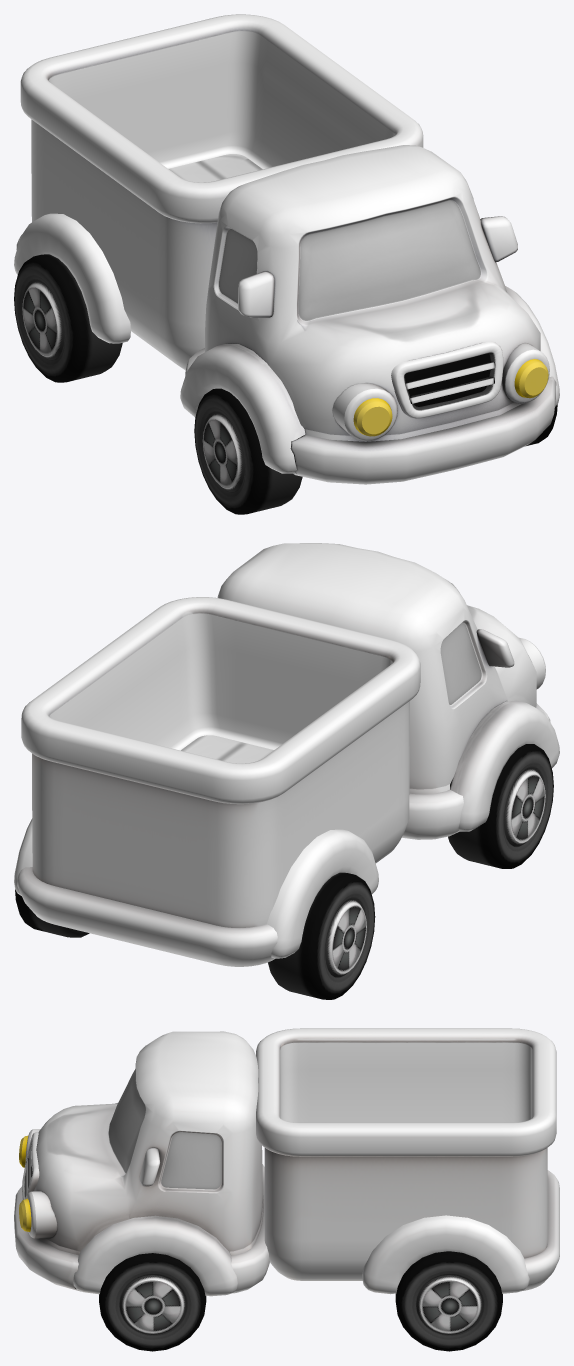
The model's file is bus_medium_inflatable.glb.
3 views of the same model, one above another, from view 1: azimuth 30°, elevation 25°; view 2: azimuth 150°, elevation 25°; view 3: azimuth 270°, elevation 25° (orthographic). The views are drawn at different scales.
Visible parts, largest first — view 1: Cab, CargoBed, WheelsRear, WheelsFront; view 2: CargoBed, Cab, WheelsRear, WheelsFront; view 3: CargoBed, Cab, WheelsRear, WheelsFront.
Boxes of the visible parts, left/top/right/bottom form: Cab: left=180, top=145, right=559, bottom=484; CargoBed: left=14, top=14, right=423, bottom=370; WheelsRear: left=14, top=254, right=122, bottom=382; WheelsFront: left=194, top=388, right=557, bottom=514; CargoBed: left=14, top=597, right=420, bottom=966; Cab: left=217, top=543, right=559, bottom=839; WheelsRear: left=15, top=872, right=375, bottom=999; WheelsFront: left=448, top=744, right=553, bottom=868; CargoBed: left=256, top=1028, right=559, bottom=1294; Cab: left=14, top=1031, right=269, bottom=1296; WheelsRear: left=395, top=1251, right=502, bottom=1351; WheelsFront: left=99, top=1253, right=206, bottom=1351.
Bounding box in the file's own units: 1.29 × 1.12 × 2.37.
4 materials, 4 textured.
